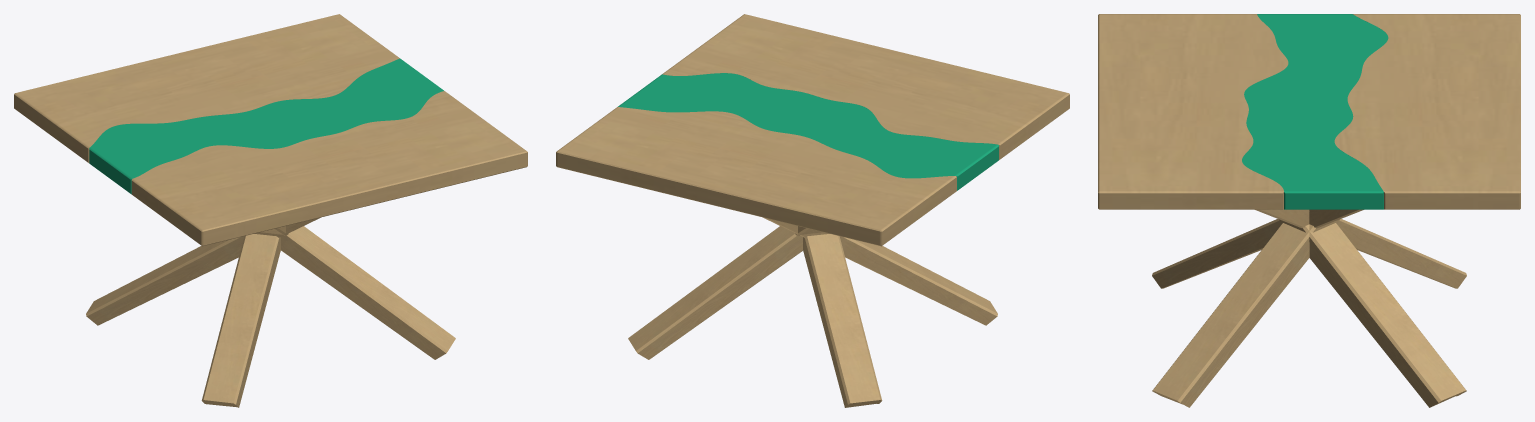
File: square-beech-epoxy-emerald.glb
3 views of the same model, side by side, from view 1: azimuth 30°, elevation 25°; view 2: azimuth 150°, elevation 25°; view 3: azimuth 270°, elevation 25° (orthographic). The views are drawn at different scales.
Parts seen in each view (by area): view 1: Wood_Square_EpoxyFar, Wood_Square_EpoxyNear, Base_Square, Resin_Square; view 2: Wood_Square_EpoxyNear, Wood_Square_EpoxyFar, Base_Square, Resin_Square; view 3: Wood_Square_EpoxyFar, Wood_Square_EpoxyNear, Base_Square, Resin_Square.
Part boxes in pixels (<box>): Wood_Square_EpoxyFar: <box>131,91,527,246</box>; Wood_Square_EpoxyNear: <box>14,14,399,162</box>; Base_Square: <box>86,217,455,407</box>; Resin_Square: <box>89,58,443,194</box>; Wood_Square_EpoxyNear: <box>556,107,956,246</box>; Wood_Square_EpoxyFar: <box>662,14,1069,159</box>; Base_Square: <box>628,217,997,407</box>; Resin_Square: <box>618,73,998,190</box>; Wood_Square_EpoxyFar: <box>1098,14,1288,209</box>; Wood_Square_EpoxyNear: <box>1334,14,1520,209</box>; Base_Square: <box>1152,209,1466,407</box>; Resin_Square: <box>1242,14,1388,209</box>.
Bounding box in the file's own units: 1.22 × 0.762 × 1.22.
Materials: 2 (1 with a texture image).
